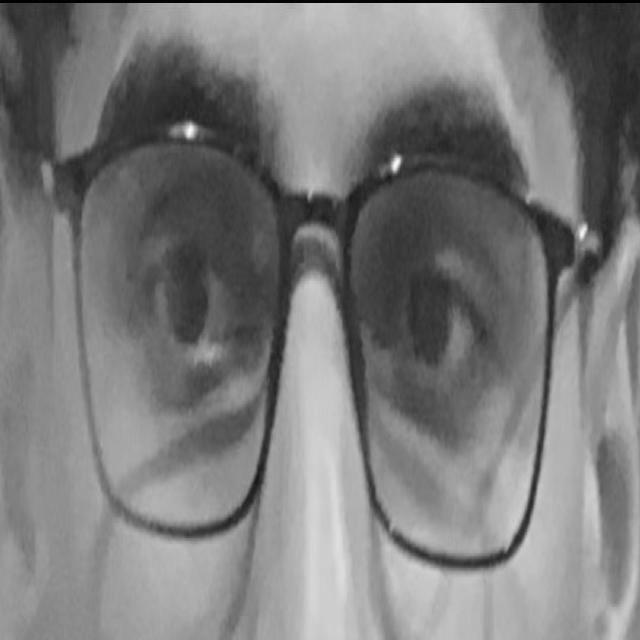real: (92, 65, 554, 567)
